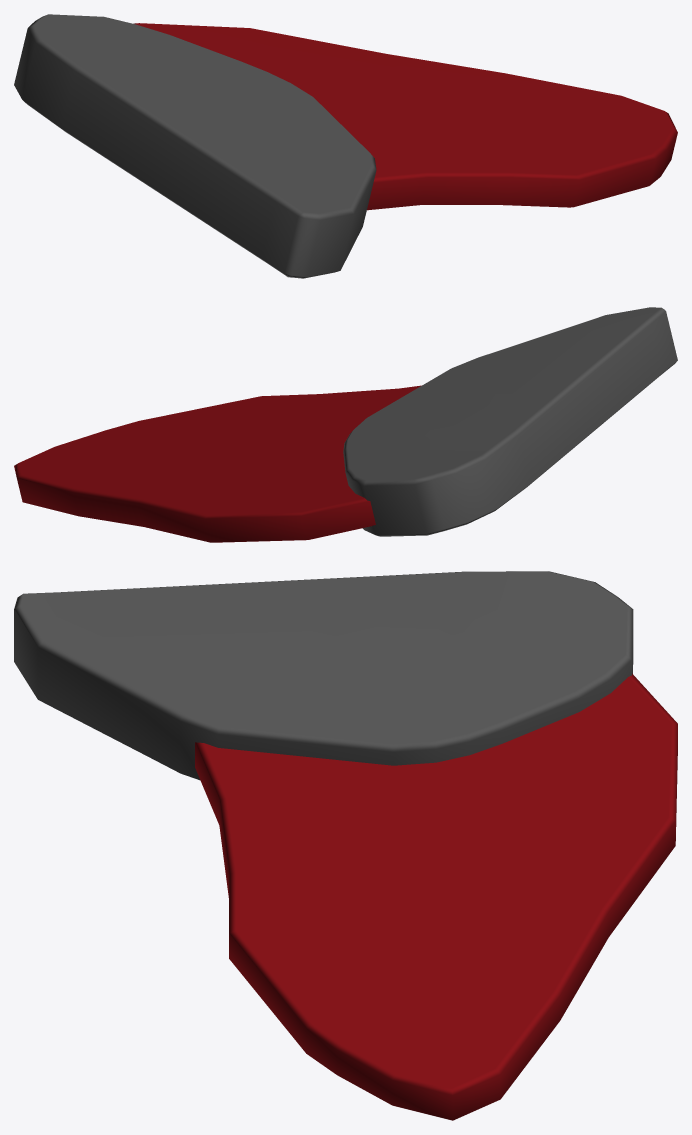
The model's file is Ship_enemy_11_Wing_L.fbx.
The picture shows the model from 3 angles, top to bottom: view 1: azimuth 30°, elevation 25°; view 2: azimuth 150°, elevation 25°; view 3: azimuth 270°, elevation 25°; orthographic projection. The views are drawn at different scales.
Parts seen in each view (by area): view 1: Ship_enemy_11_Wing_L; view 2: Ship_enemy_11_Wing_L; view 3: Ship_enemy_11_Wing_L.
Part boxes in pixels (x1,y1,x2,y2): Ship_enemy_11_Wing_L: (14,14,677,278); Ship_enemy_11_Wing_L: (14,307,677,542); Ship_enemy_11_Wing_L: (14,571,677,1120).
Size of the model in its own units: 219 by 73.7 by 187.
